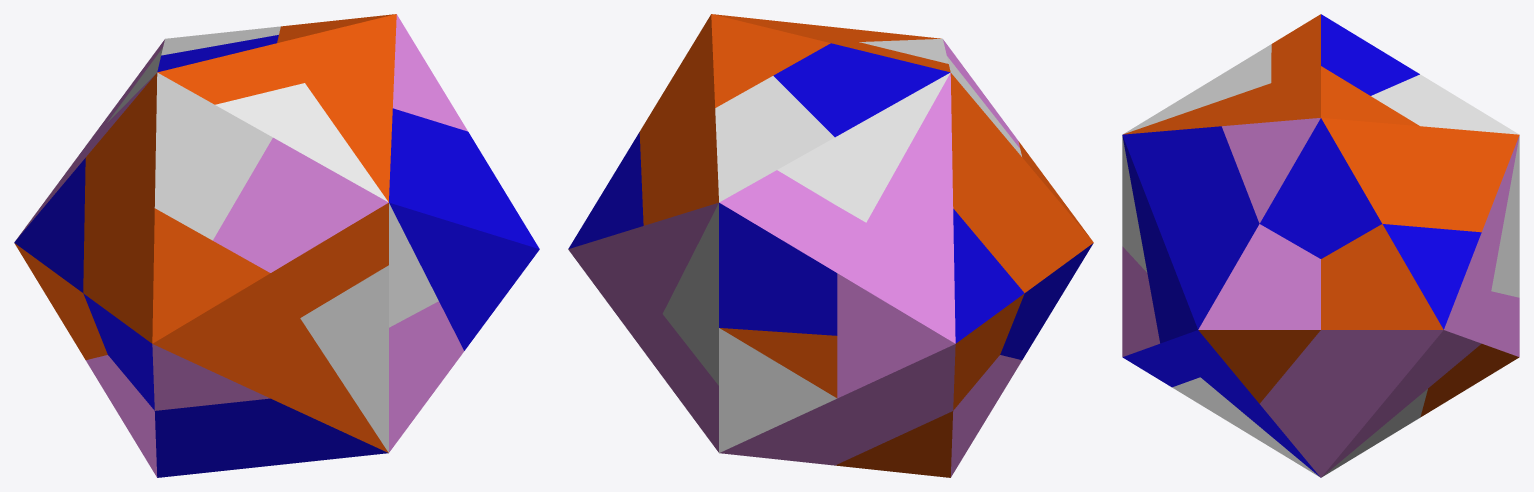
The model's file is icosahedron6.glb.
3 views of the same model, side by side, from view 1: azimuth 30°, elevation 25°; view 2: azimuth 150°, elevation 25°; view 3: azimuth 270°, elevation 25° (orthographic). The views are drawn at different scales.
Parts seen in each view (by area): view 1: Solid2, Solid1, Solid4, Solid3; view 2: Solid3, Solid2, Solid4, Solid1; view 3: Solid1, Solid2, Solid3, Solid4, Solid5, Solid6.
Boxes of the visible parts, box(x1,y1,x2,y2) form: Solid2: box(14, 14, 396, 452); Solid1: box(14, 35, 539, 477); Solid4: box(107, 26, 438, 452); Solid3: box(15, 14, 467, 477); Solid3: box(568, 39, 1021, 477); Solid2: box(639, 14, 1093, 477); Solid4: box(662, 38, 1021, 452); Solid1: box(568, 43, 1093, 359); Solid1: box(1122, 14, 1481, 477); Solid2: box(1123, 14, 1519, 417); Solid3: box(1122, 118, 1519, 477); Solid4: box(1122, 44, 1519, 476); Solid5: box(1222, 411, 1319, 476); Solid6: box(1191, 377, 1240, 417).
Bounding box in the file's own units: 1.7 × 1.7 × 1.7.
